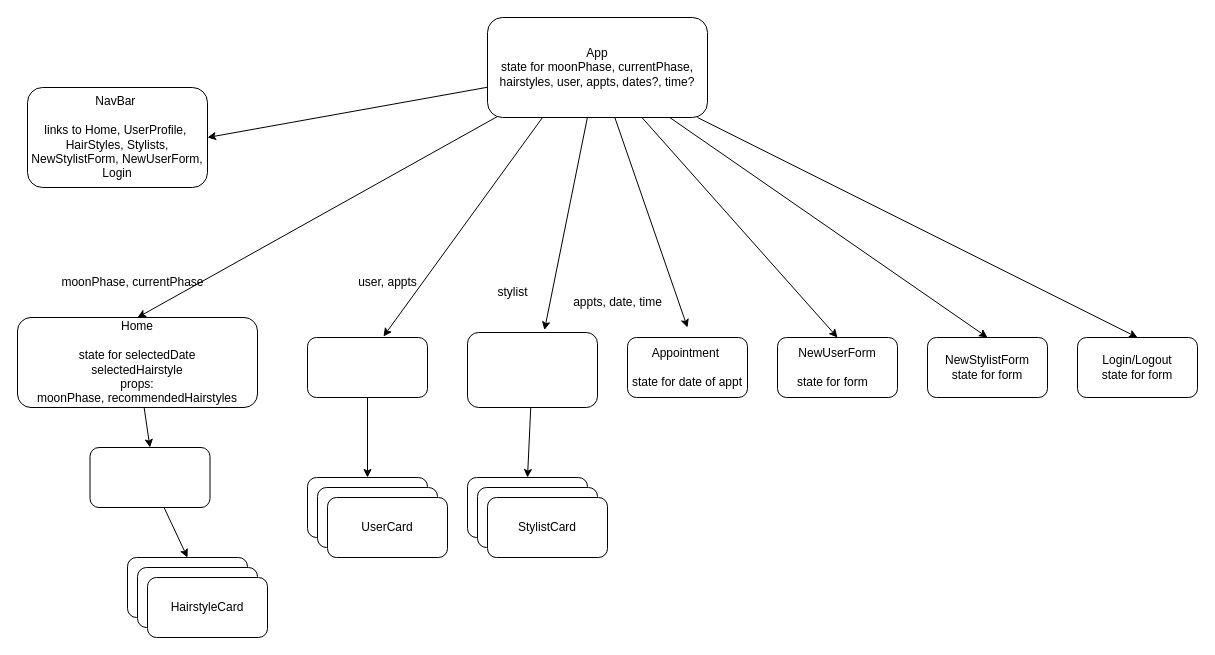
This 1215x655 diagram has some shape labels left out. The centre of each missing label's shape, as x and y in pixels:
"HairstyleList props:hairstyles" goes at (x=149, y=477).
"StylistList state for selectedStylist props:stylist" goes at (x=532, y=370).
"UserProfile props: user, appts" goes at (x=367, y=367).
